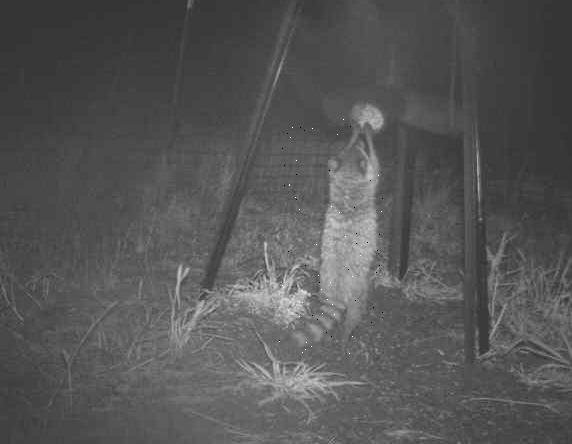Raccoon: (279, 120, 383, 358)
